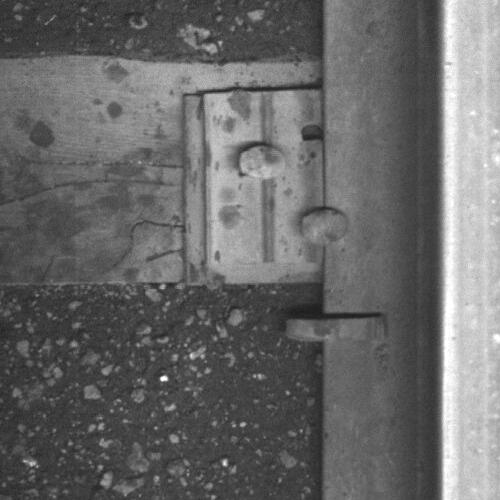crutch: (284, 315, 387, 342)
do: (203, 92, 353, 273)
hole_do: (295, 118, 331, 146)
rail: (437, 1, 500, 500)
tie_wood: (1, 56, 322, 285)
wood_crack: (1, 144, 184, 198)
